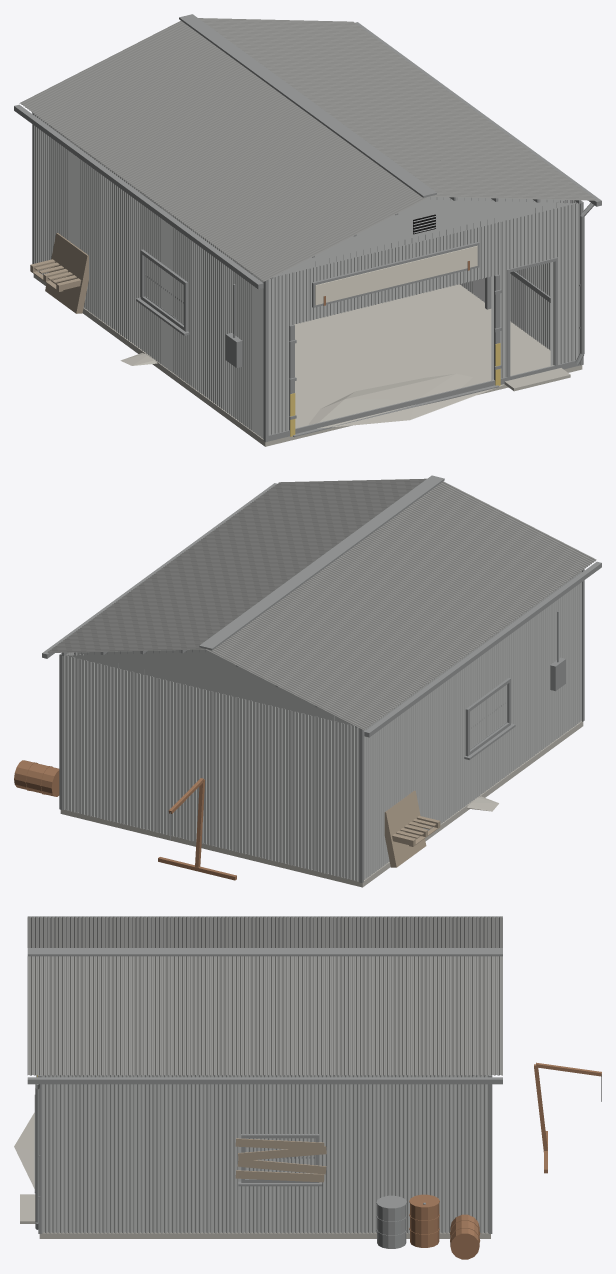
The model's file is station_1.glb.
3 renders of one model, top to bottom at view 1: azimuth 30°, elevation 25°; view 2: azimuth 150°, elevation 25°; view 3: azimuth 270°, elevation 25°, orthographic. The views are drawn at different scales.
Parts seen in each view (by area): view 1: Station; view 2: Station; view 3: Station.
Part boxes in pixels (x1,y1,x2,y2): Station: (14,14,601,446); Station: (14,475,601,887); Station: (14,916,601,1259).
Bounding box in the file's own units: 8.89 × 4.63 × 11.63.
